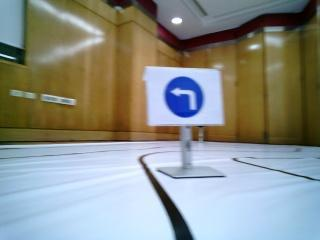left: (145, 68, 222, 126)
